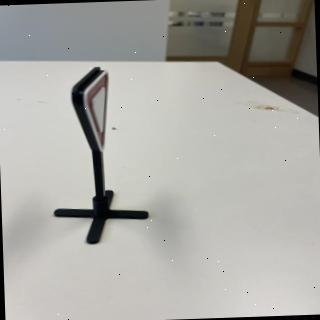sign_yield: (71, 72, 133, 157)
